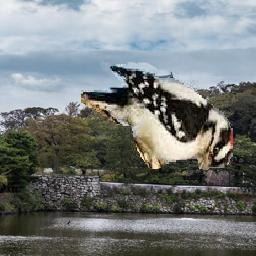Woodpecker: (77, 65, 234, 176)
